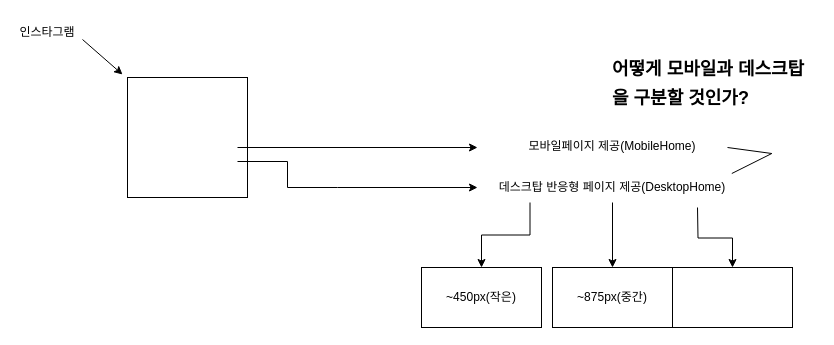
Image size: 834x345. Some labels were removed from this diagram. Each missing label, with the centre of its shape:
"876px~(큰)" belongs at point (732, 297).
"로딩(기기확인) 1. 모바일인가? 2. 데스크탑인가?" belongs at point (187, 137).
